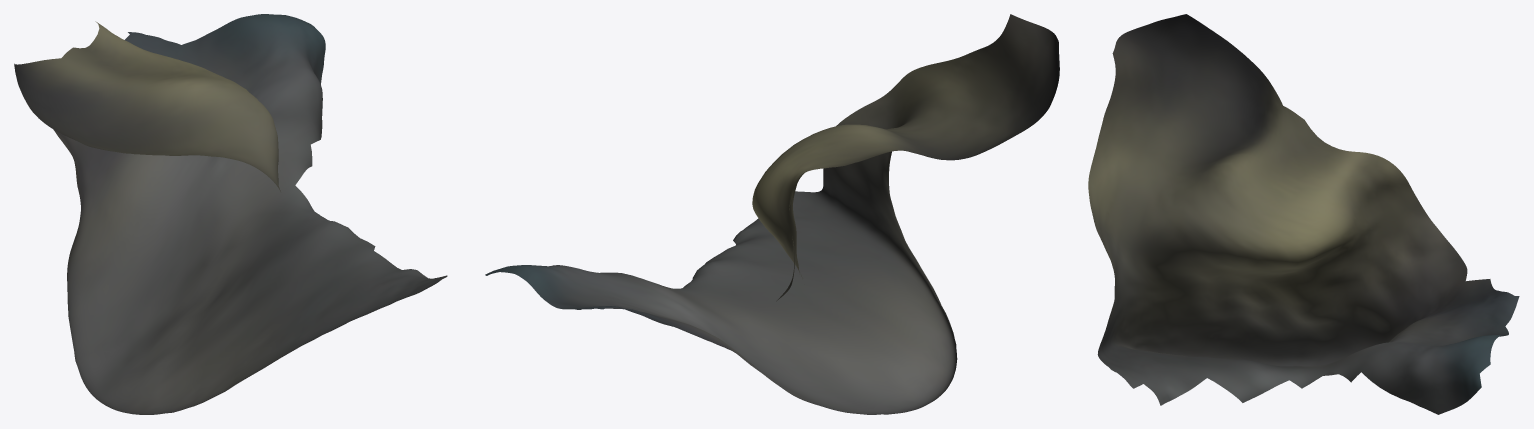
File: Cloud_global_new_5.glb
3 renders of one model, left to right at view 1: azimuth 30°, elevation 25°; view 2: azimuth 150°, elevation 25°; view 3: azimuth 270°, elevation 25°, orthographic. The views are drawn at different scales.
Visible parts, largest first — view 1: LOD0; view 2: LOD0; view 3: LOD0.
Part boxes in pixels (x1,y1,x2,y2): LOD0: (14,14,447,414); LOD0: (485,14,1059,414); LOD0: (1088,14,1519,414).
Size of what is drawn, in the model's own units: 1.04 by 0.8283 by 1.03.
